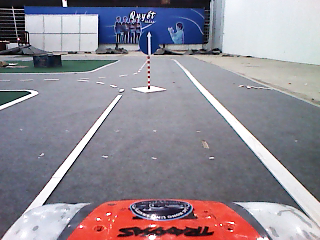straight: (139, 30, 160, 56)
